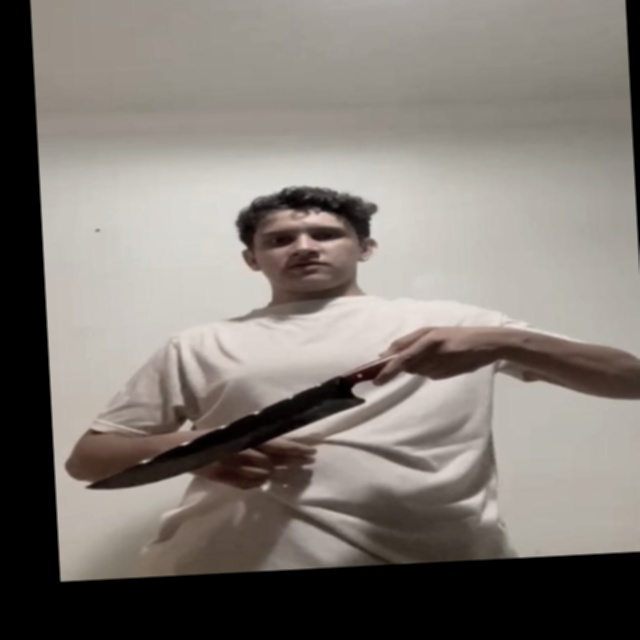Sharp-Object: (85, 383, 365, 493)
